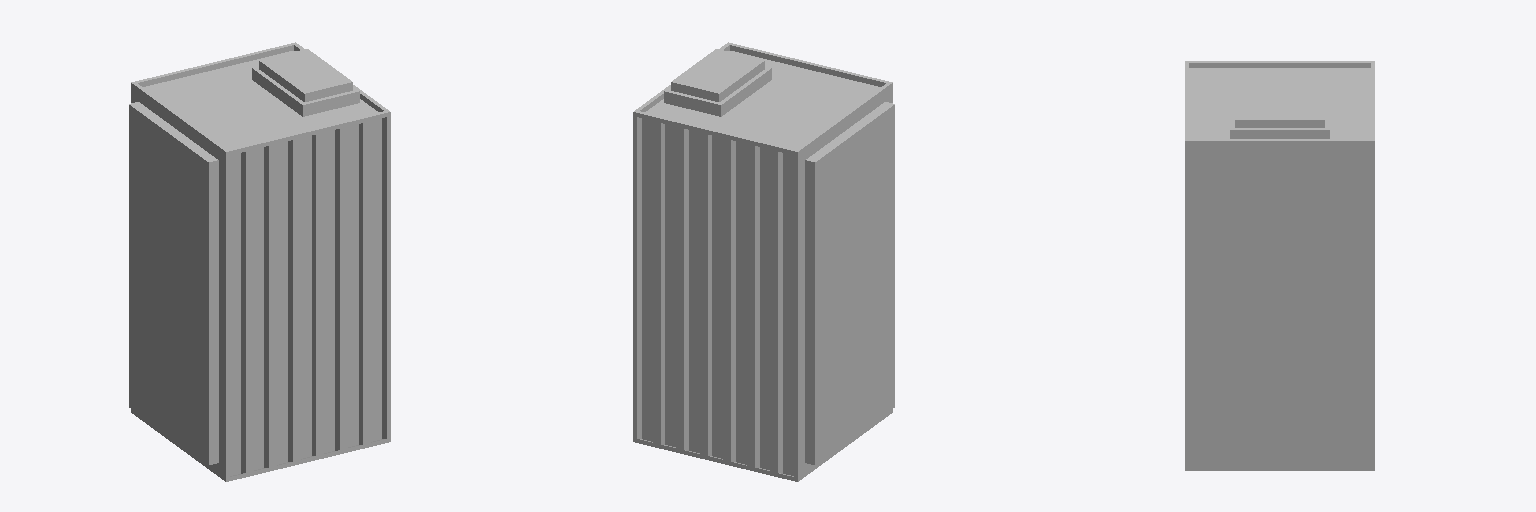
3 views of the same model, side by side, from view 1: azimuth 30°, elevation 25°; view 2: azimuth 150°, elevation 25°; view 3: azimuth 270°, elevation 25° (orthographic).
Parts seen in each view (by area): view 1: Highrise_2; view 2: Highrise_2; view 3: Highrise_2.
Part boxes in pixels (x1,y1,x2,y2): Highrise_2: (129, 42, 390, 481); Highrise_2: (633, 42, 894, 481); Highrise_2: (1185, 61, 1374, 470).
Bounding box in the file's own units: 212 × 401 × 200.